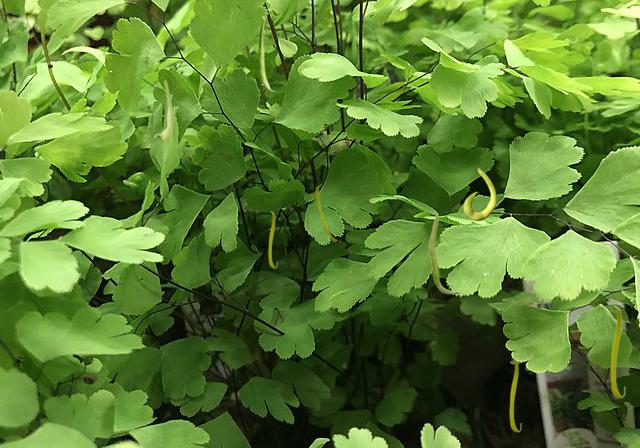french_bean: (428, 211, 460, 294), (463, 168, 495, 219), (610, 305, 624, 397), (258, 16, 274, 90), (315, 184, 336, 240), (154, 80, 172, 140), (509, 357, 520, 431), (268, 211, 276, 267)
